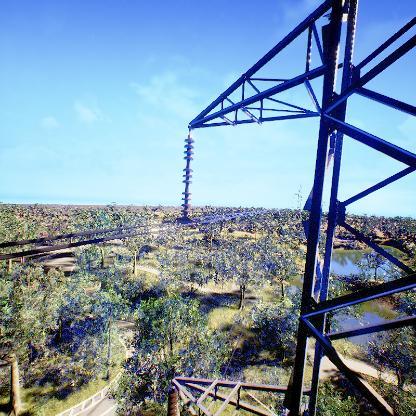insulator: (179, 136, 197, 217)
